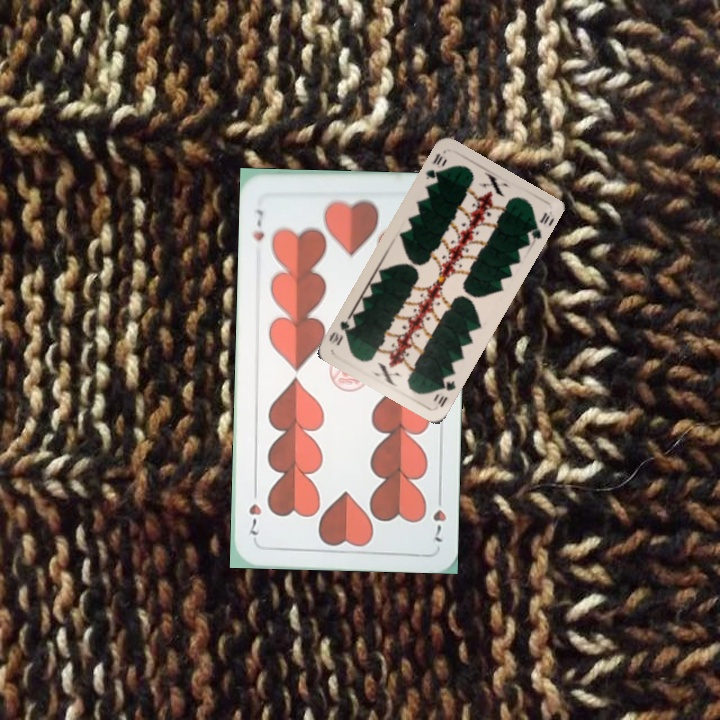G10: (422, 149, 450, 182), (434, 376, 458, 410)
H7: (429, 488, 449, 545), (249, 205, 267, 244)
